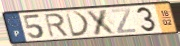3: (136, 5, 158, 34)
5: (22, 13, 46, 40)
D: (64, 10, 91, 38)
R: (43, 12, 71, 39)
X: (85, 8, 119, 37)
Z: (110, 7, 138, 35)
